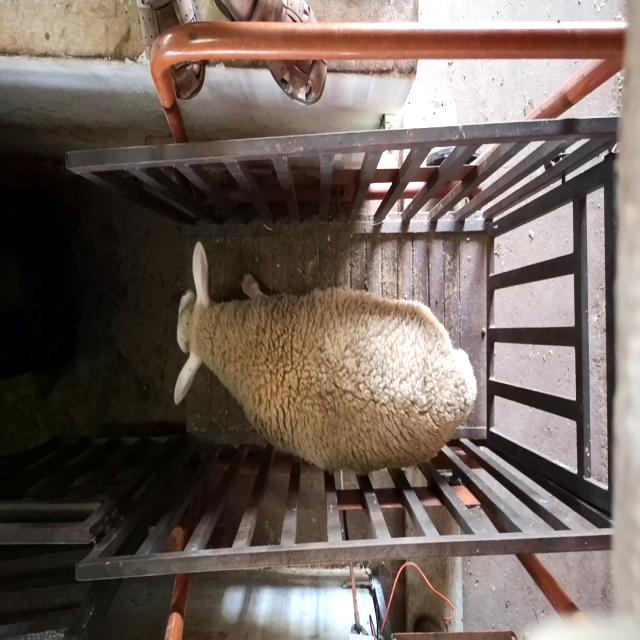sheep: (173, 243, 478, 473)
